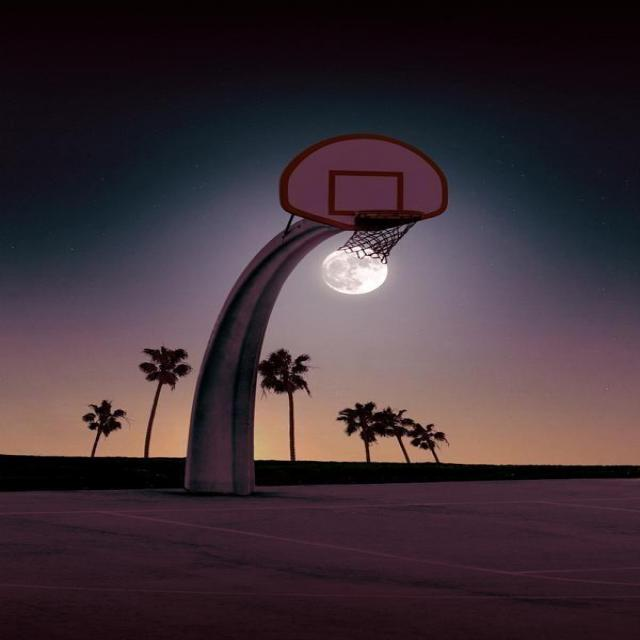hoop: (335, 192, 442, 278)
